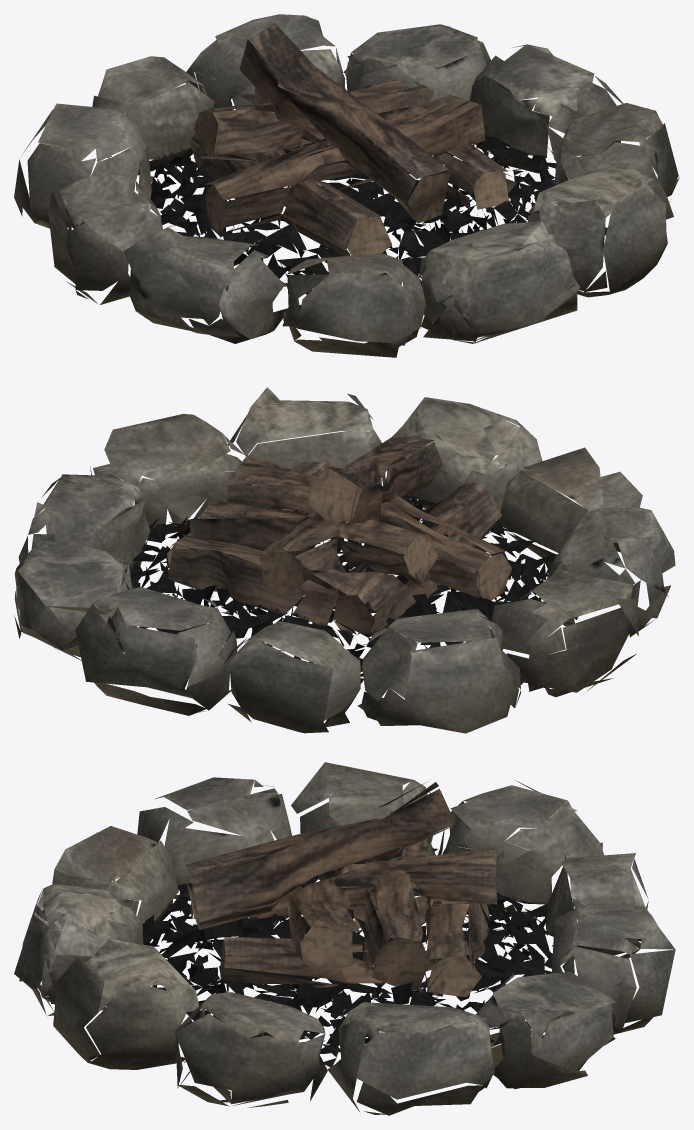
File: lod-performance.glb
3 renders of one model, top to bottom at view 1: azimuth 30°, elevation 25°; view 2: azimuth 150°, elevation 25°; view 3: azimuth 270°, elevation 25°, orthographic.
Parts seen in each view (by area): view 1: stone-firepit.001; view 2: stone-firepit.001; view 3: stone-firepit.001.
Part boxes in pixels (left/top/right/bottom): stone-firepit.001: left=14, top=14, right=679, bottom=357; stone-firepit.001: left=14, top=387, right=675, bottom=733; stone-firepit.001: left=14, top=762, right=675, bottom=1115.
Bounding box in the file's own units: 1.63 × 0.5069 × 1.62.
1 material, 1 textured.
